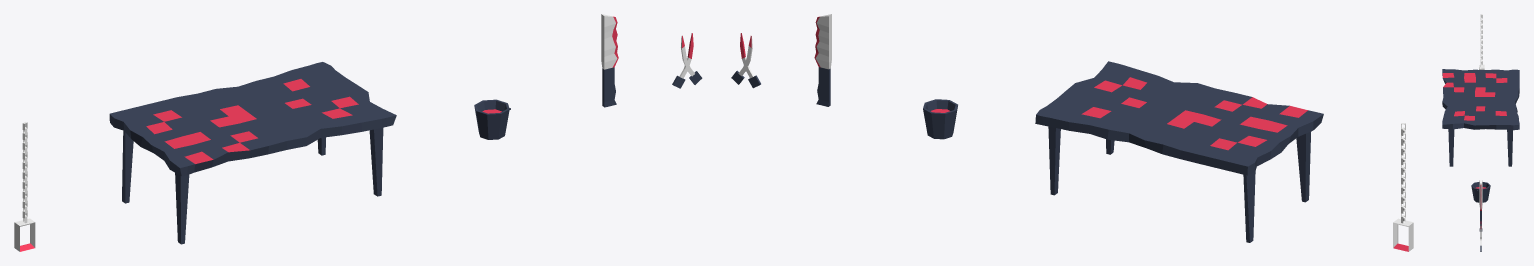
The model's file is assetTorture.fbx.
3 views of the same model, side by side, from view 1: azimuth 30°, elevation 25°; view 2: azimuth 150°, elevation 25°; view 3: azimuth 270°, elevation 25° (orthographic). The views are drawn at different scales.
Visible parts, largest first — view 1: TortureTable, Bonesaw, Bucket, Chain, Cube; view 2: TortureTable, Bonesaw, Bucket, Chain, Cube; view 3: TortureTable, Bucket, Chain, Bonesaw, Cube.
Boxes of the visible parts, x1=… form: TortureTable: x1=109, y1=62, x2=396, y2=244; Bonesaw: x1=601, y1=14, x2=618, y2=107; Bucket: x1=474, y1=99, x2=510, y2=139; Chain: x1=14, y1=122, x2=35, y2=251; Cube: x1=672, y1=33, x2=702, y2=88; TortureTable: x1=1035, y1=61, x2=1323, y2=242; Bonesaw: x1=814, y1=14, x2=831, y2=106; Bucket: x1=923, y1=99, x2=957, y2=139; Chain: x1=1393, y1=123, x2=1413, y2=251; Cube: x1=731, y1=33, x2=760, y2=88; TortureTable: x1=1442, y1=69, x2=1519, y2=166; Bucket: x1=1471, y1=182, x2=1490, y2=202; Chain: x1=1479, y1=14, x2=1484, y2=69; Bonesaw: x1=1479, y1=180, x2=1482, y2=231; Cube: x1=1480, y1=221, x2=1481, y2=251.
Bounding box in the file's own units: 5872 × 1065 × 1093.
